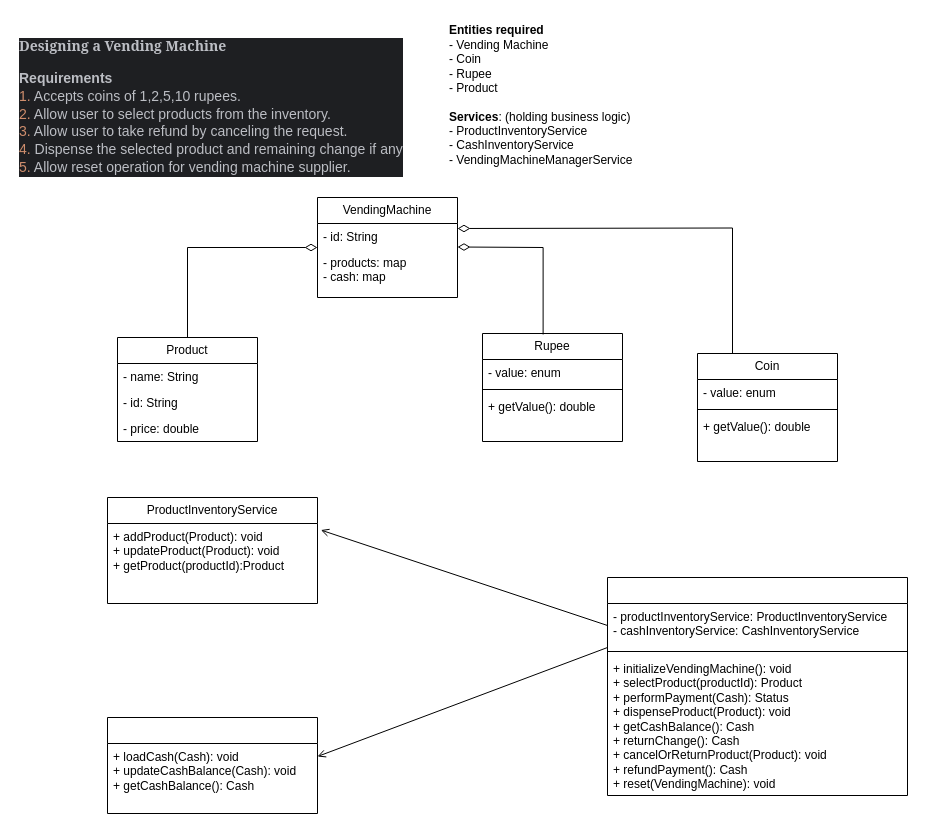
The diagram is 925 pixels wide and 833 high, and some of its shapes have lost their labels. Here are the shapes that lost their labels. From the top down, the box of each, then its label:
(606, 576, 908, 796): VendingMachineManagerService
(106, 716, 318, 814): CashInventoryService
